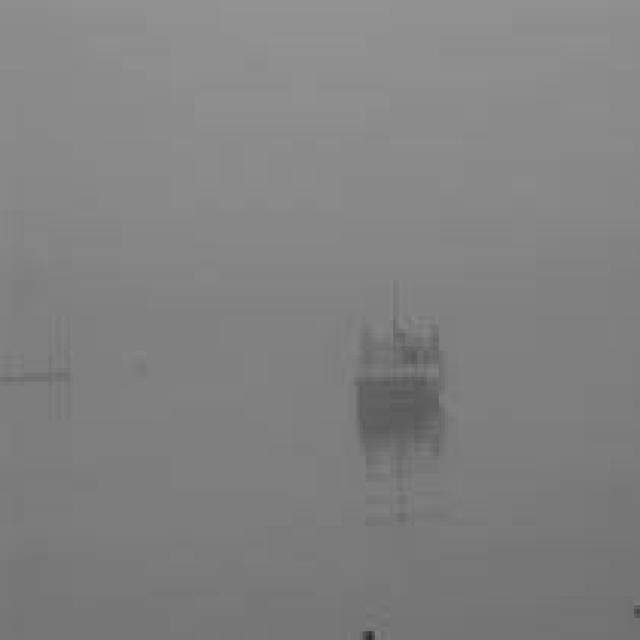houseboat: (330, 287, 462, 441)
